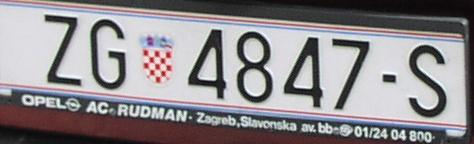-: (382, 72, 397, 86)
4: (185, 27, 229, 100), (282, 36, 324, 108)
7: (331, 36, 370, 111)
8: (237, 31, 273, 104)
G: (88, 18, 128, 92)
S: (407, 44, 448, 119)
Z: (43, 13, 84, 85)
